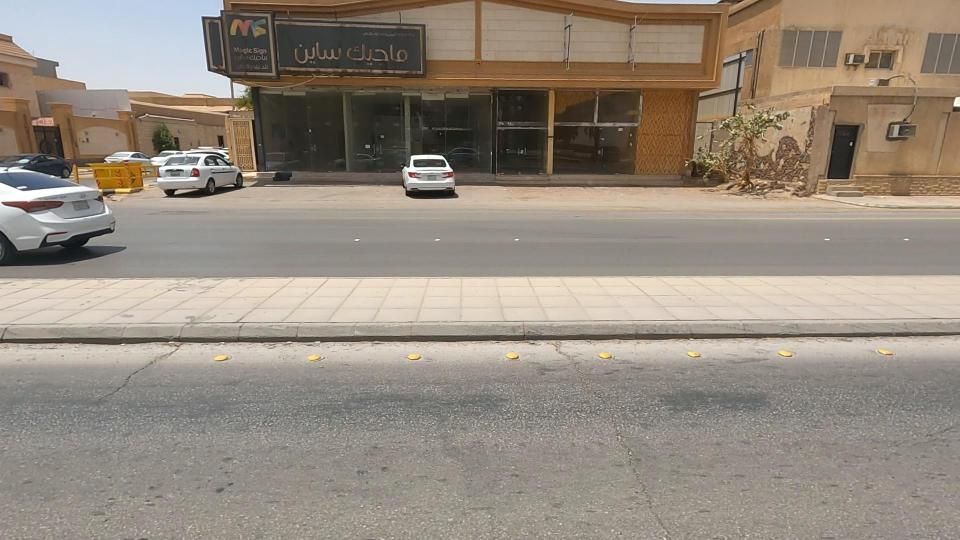BAD_BILLBOARD: (196, 0, 496, 114)
